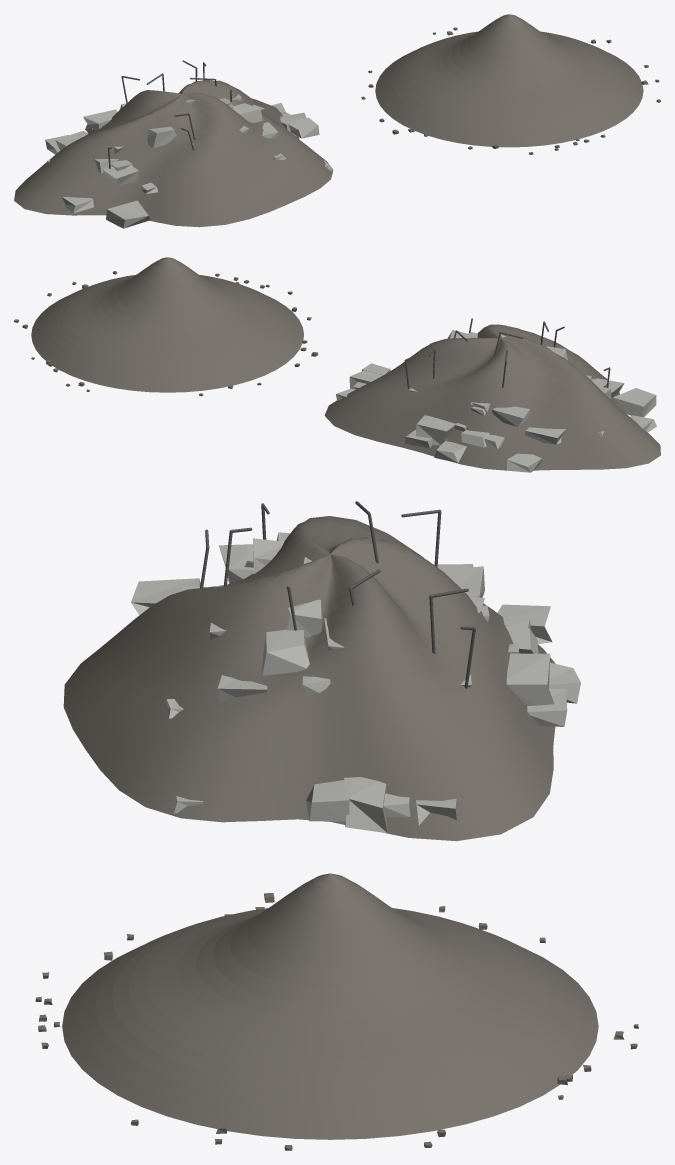
The model's file is rubble_and_gravel_piles.glb.
The picture shows the model from 3 angles, top to bottom: view 1: azimuth 30°, elevation 25°; view 2: azimuth 150°, elevation 25°; view 3: azimuth 270°, elevation 25°; orthographic projection. The views are drawn at different scales.
Parts seen in each view (by area): view 1: rubble_heap, gravel_pile; view 2: rubble_heap, gravel_pile; view 3: rubble_heap, gravel_pile.
Boxes of the visible parts, <box> form: rubble_heap: <box>14,60,333,228</box>; gravel_pile: <box>361,14,660,154</box>; rubble_heap: <box>324,318,660,472</box>; gravel_pile: <box>14,257,318,396</box>; rubble_heap: <box>63,501,580,841</box>; gravel_pile: <box>35,873,638,1150</box>.
Size of the model in its own units: 7.13 by 1.03 by 3.04.
Materials: 3 (3 with a texture image).
